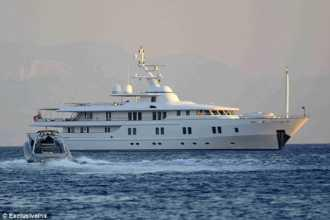otherboat: (24, 124, 74, 162)
yacht: (29, 65, 310, 149)
